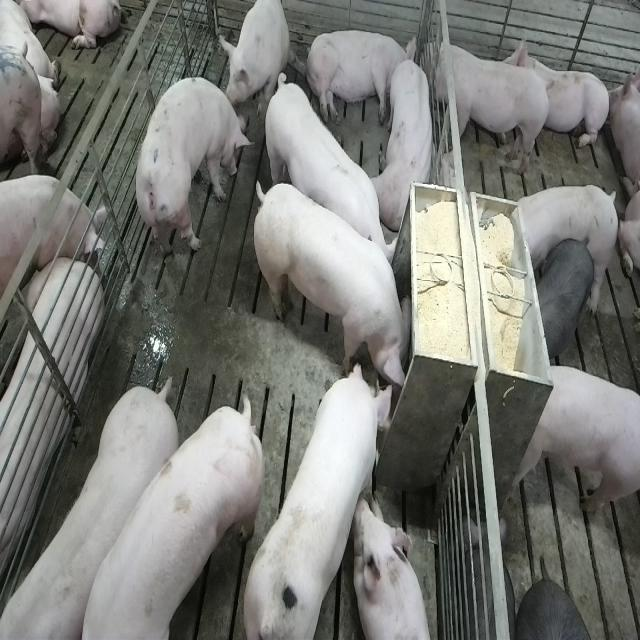Feeding: (243, 358, 400, 634), (255, 172, 419, 404)
Lateral_lying: (0, 251, 101, 612), (304, 28, 416, 127)
Sitting: (222, 2, 292, 123)
Standing: (76, 391, 265, 640), (0, 380, 176, 640), (262, 71, 396, 283), (130, 78, 248, 278), (507, 364, 639, 520), (422, 37, 552, 181), (0, 174, 107, 306), (509, 182, 618, 291), (535, 236, 595, 363)
Sternal_lying: (508, 32, 610, 155), (375, 48, 438, 232), (356, 496, 434, 640)
